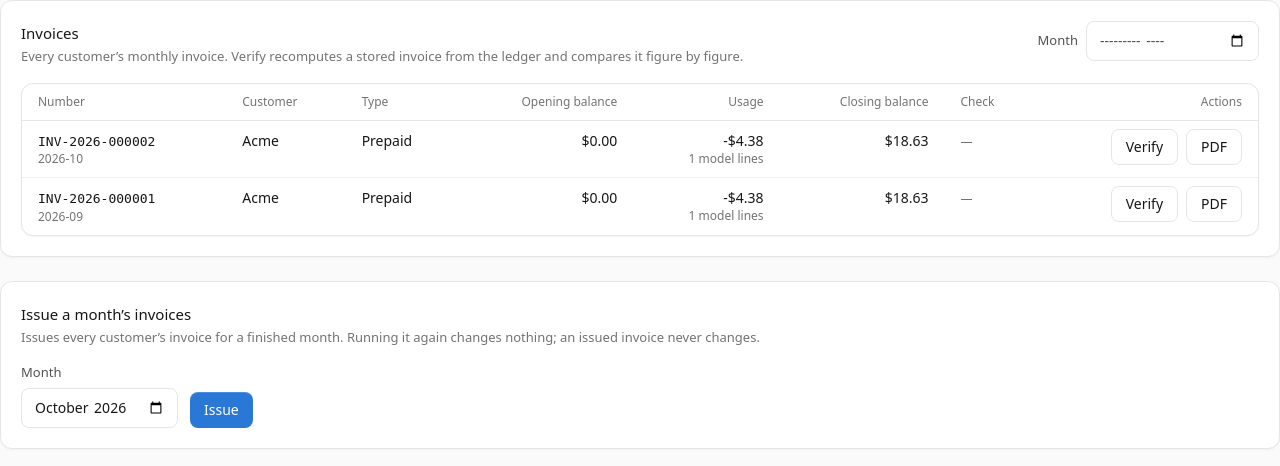
billing invoices (card 25.2) › lists invoices with the customer and filters by month
This screenshot has width=1280, height=466.
Expected: the number of rows with test id "invoice-row" is 2, [22, 120, 1258, 178]; [22, 178, 1258, 235]
Expected: the text "INV-2026-000002" is shown, [38, 134, 155, 148]
Type "2026-09" into the 1st field labelled "Month". click: (1172, 41)
box: [1086, 21, 1259, 61]
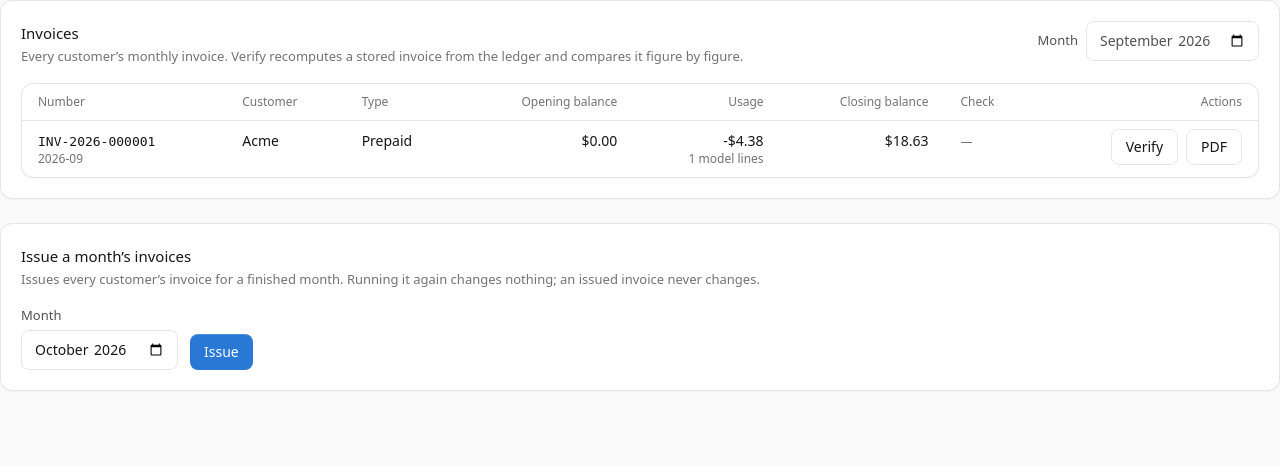
Expected: the number of rows with test id "invoice-row" is 1, [22, 120, 1258, 177]
